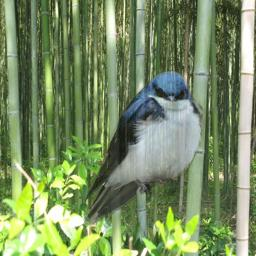Swallow: (79, 69, 205, 226)
